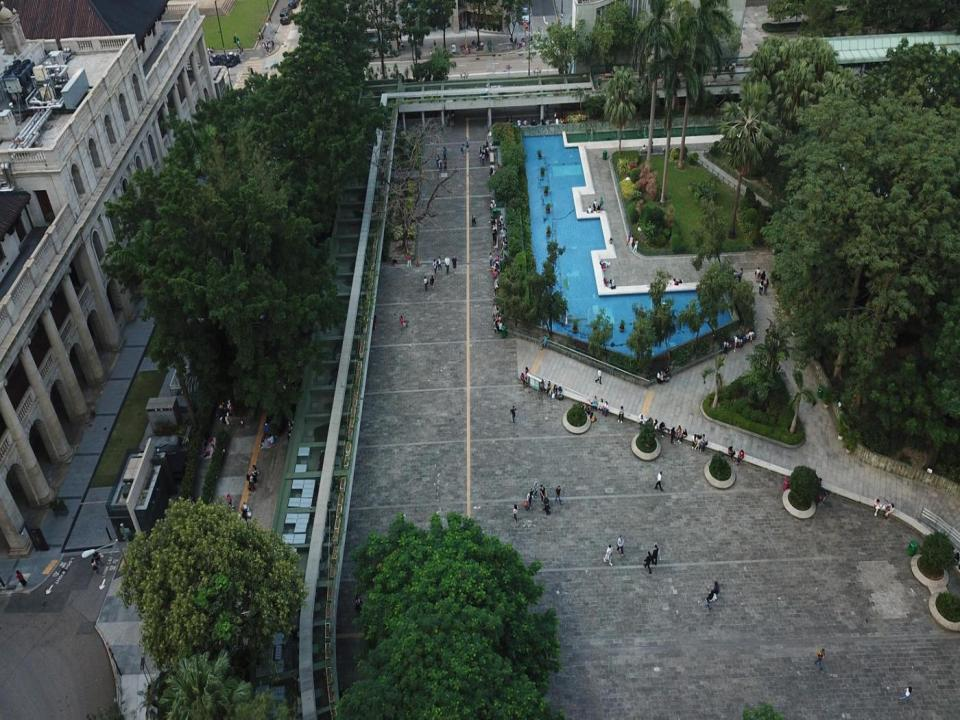car: (520, 6, 531, 24), (288, 0, 302, 8)
van: (280, 6, 293, 25)
